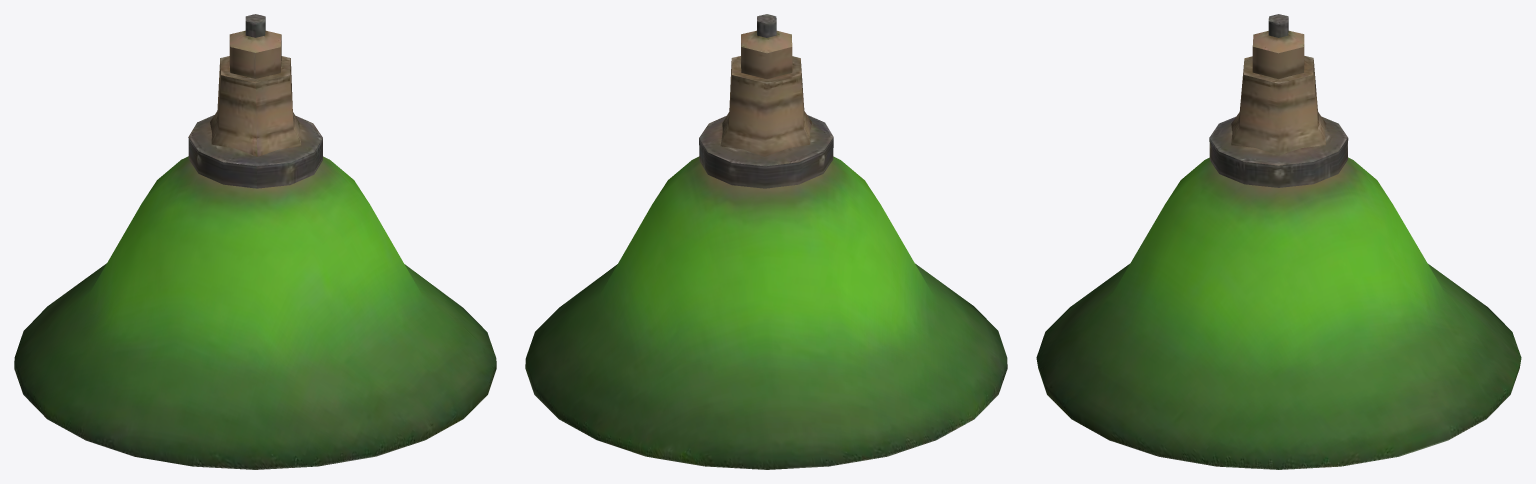
Rendered from gambling_light.glb.
3 views of the same model, side by side, from view 1: azimuth 30°, elevation 25°; view 2: azimuth 150°, elevation 25°; view 3: azimuth 270°, elevation 25° (orthographic).
Visible parts, largest first — view 1: gambling_lamp_LOD0; view 2: gambling_lamp_LOD0; view 3: gambling_lamp_LOD0.
Part boxes in pixels (box(x1,y1,x2,y2)): gambling_lamp_LOD0: box(14, 14, 496, 469); gambling_lamp_LOD0: box(525, 14, 1007, 469); gambling_lamp_LOD0: box(1036, 14, 1521, 469).
Size of the model in its own units: 0.3344 by 0.2833 by 0.3375.
Materials: 2 (2 with a texture image).
